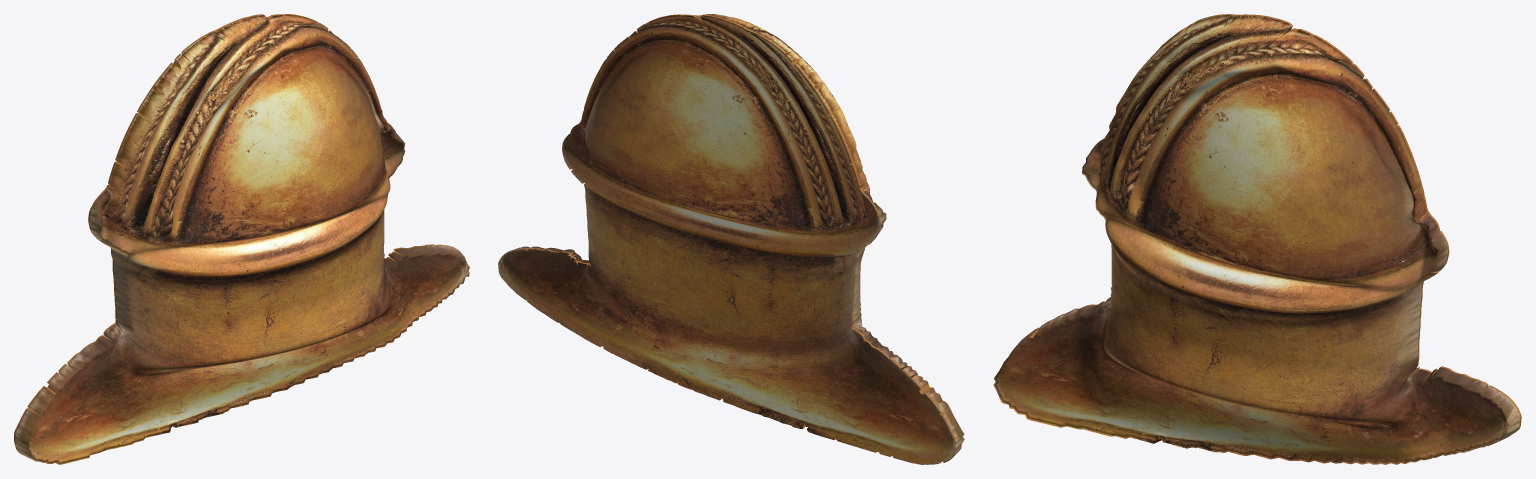
File: labret_2005.glb
3 renders of one model, left to right at view 1: azimuth 30°, elevation 25°; view 2: azimuth 150°, elevation 25°; view 3: azimuth 330°, elevation 25°, orthographic. The views are drawn at different scales.
Visible parts, largest first — view 1: labret_2005; view 2: labret_2005; view 3: labret_2005.
Part boxes in pixels (x1,y1,x2,y2): labret_2005: [14, 14, 469, 464]; labret_2005: [498, 14, 964, 464]; labret_2005: [993, 14, 1521, 464].
Size of the model in its own units: 7.52 by 6.26 by 1.2.
1 material, 1 textured.
